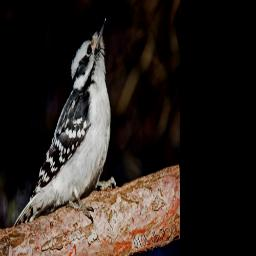Woodpecker: (14, 13, 119, 227)
